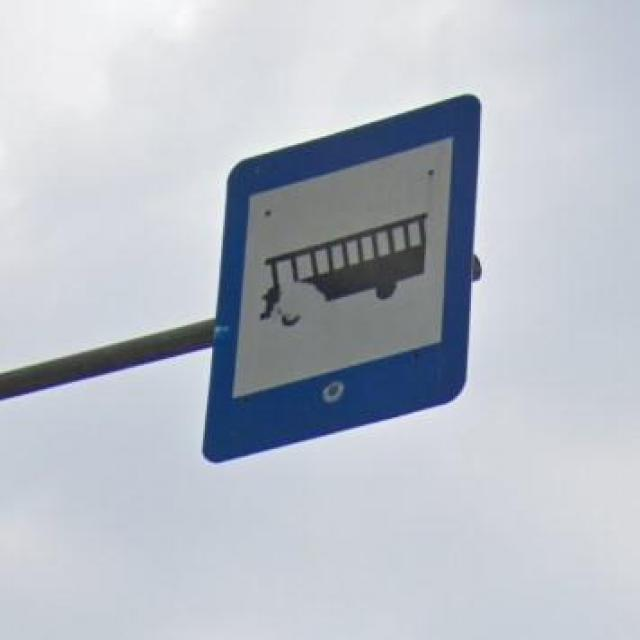traffic sign: (205, 94, 478, 460)
